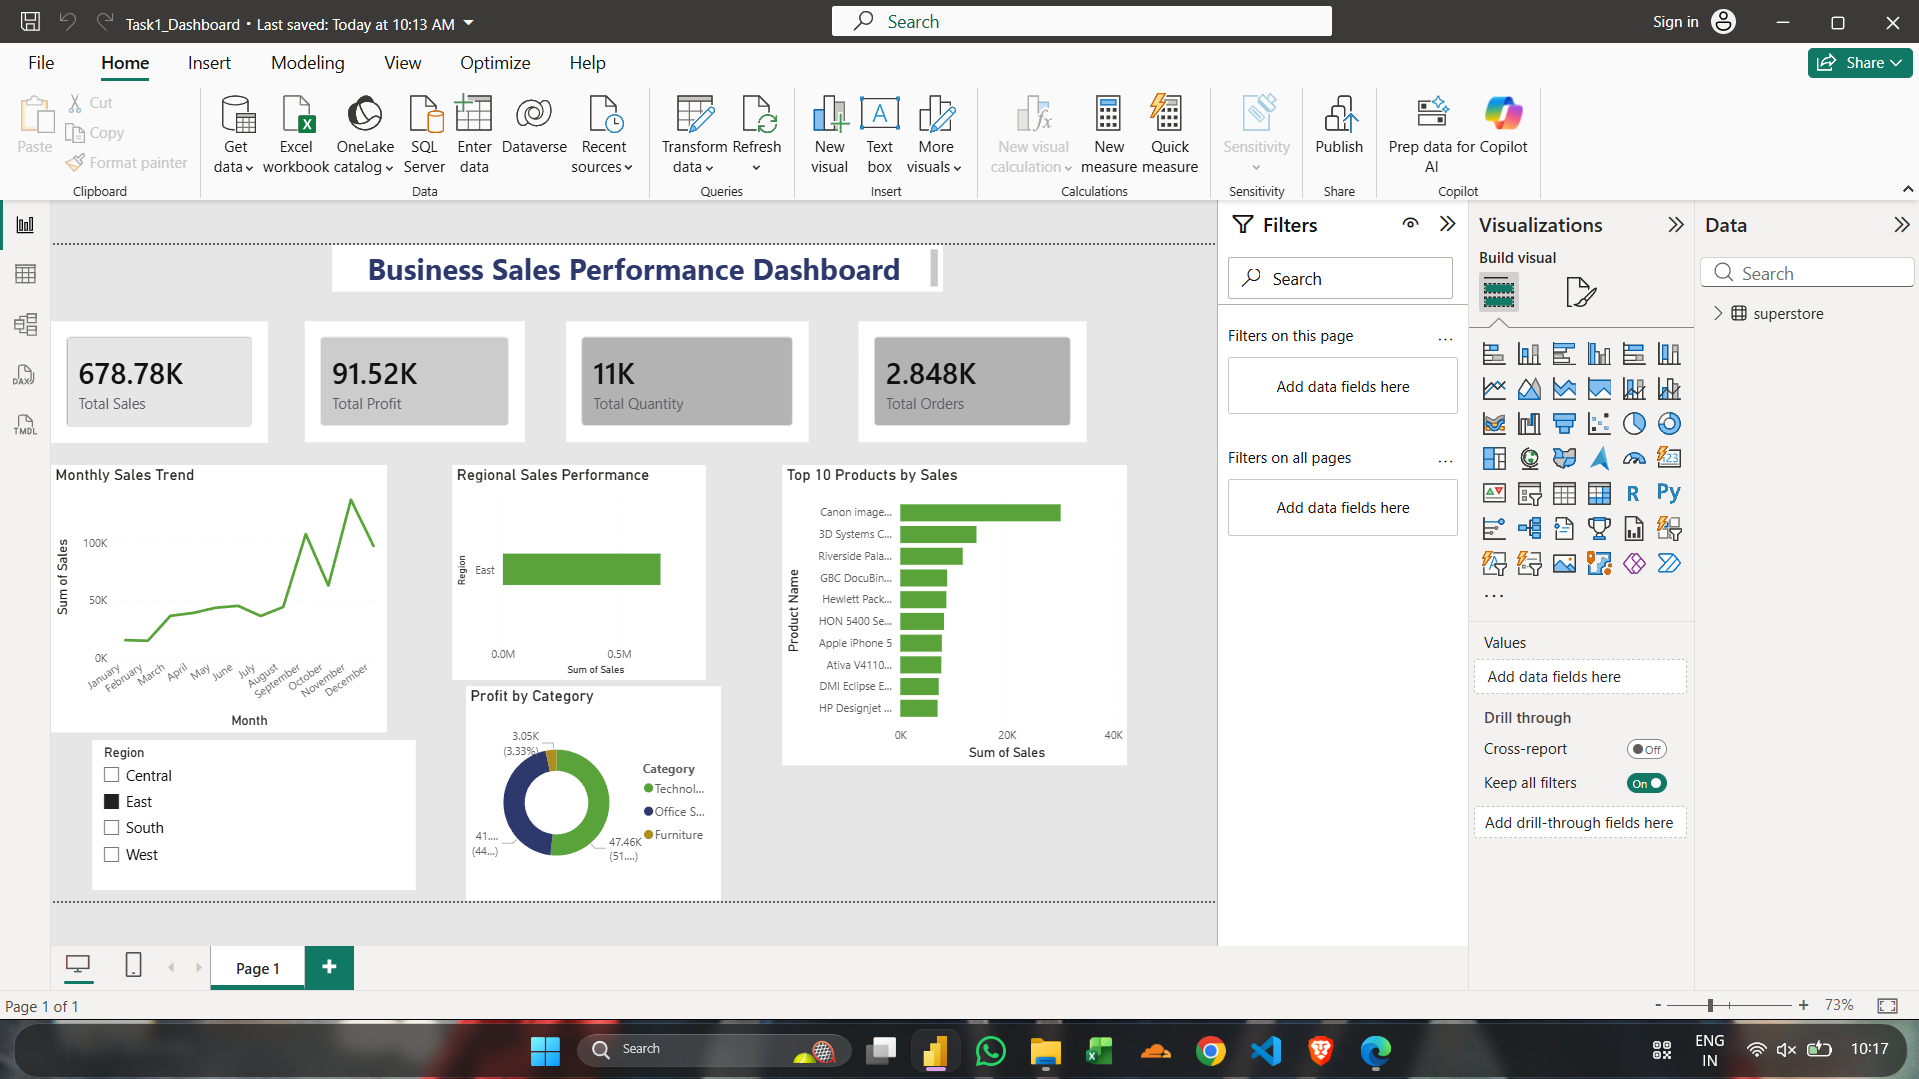

This screenshot's page, from the dashboard's own definition file:
{"tool":"powerbi","page":{"name":"Page 1","canvas":[1280,720],"ordinal":0},"visuals":[{"type":"cardVisual","fields":{"Data":["Sum(superstore.Sales)"]},"box":[0,83.8,238.8,133.8],"z":0},{"type":"cardVisual","fields":{"Data":["Sum(superstore.Profit)"]},"box":[278.8,83.8,241.2,132.5],"z":1000},{"type":"cardVisual","fields":{"Data":["Sum(superstore.Quantity)"]},"box":[565,83.8,266.2,132.5],"z":2000},{"type":"cardVisual","fields":{"Data":["CountNonNull(superstore.Order ID)"]},"box":[886.2,83.8,250,132.5],"z":3000},{"type":"lineChart","title":"Monthly Sales Trend","fields":{"Y":["Sum(superstore.Sales)"],"Category":["superstore.Order Date.Variation.Date Hierarchy.Month"]},"box":[0,241.5,369.1,293.7],"z":4000},{"type":"clusteredBarChart","title":"Regional Sales Performance","fields":{"Category":["superstore.Region"],"Y":["Sum(superstore.Sales)"]},"box":[440,241.2,278.8,236.2],"z":5000},{"type":"clusteredBarChart","title":"Top 10 Products by Sales","fields":{"Category":["superstore.Product Name"],"Y":["Sum(superstore.Sales)"]},"box":[802.7,241.5,378.7,329.3],"z":6000},{"type":"donutChart","title":"Profit by Category","fields":{"Category":["superstore.Category"],"Y":["Sum(superstore.Profit)"]},"box":[456.2,485,280,235],"z":7000},{"type":"slicer","fields":{"Values":["superstore.Region"]},"box":[45,543.8,355,165],"z":8000},{"type":"textbox","box":[308.8,0,670,51.2],"z":9000}]}

Visuals, with their boxes on the page's 1280x720 design canvas (x1, y1, x2, y2). These are canvas units, not pixel positions in the 1919x1079 screenshot, which may show the page scaled, cropped or inside an application window:
cardVisual - Sum(superstore.Sales): <bbox>0, 84, 239, 218</bbox>
cardVisual - Sum(superstore.Profit): <bbox>279, 84, 520, 216</bbox>
cardVisual - Sum(superstore.Quantity): <bbox>565, 84, 831, 216</bbox>
cardVisual - CountNonNull(superstore.Order ID): <bbox>886, 84, 1136, 216</bbox>
"Monthly Sales Trend" lineChart: <bbox>0, 242, 369, 535</bbox>
"Regional Sales Performance" clusteredBarChart: <bbox>440, 241, 719, 477</bbox>
"Top 10 Products by Sales" clusteredBarChart: <bbox>803, 242, 1181, 571</bbox>
"Profit by Category" donutChart: <bbox>456, 485, 736, 720</bbox>
slicer - superstore.Region: <bbox>45, 544, 400, 709</bbox>
textbox: <bbox>309, 0, 979, 51</bbox>
